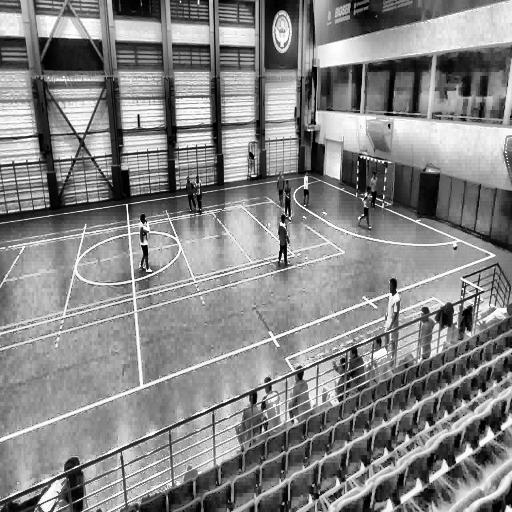ball: (452, 240, 458, 249)
player: (138, 213, 152, 273), (357, 186, 374, 233), (277, 212, 290, 268), (281, 180, 295, 222), (194, 172, 205, 218), (275, 169, 286, 210), (302, 168, 312, 211), (368, 171, 378, 211), (186, 177, 197, 213)
